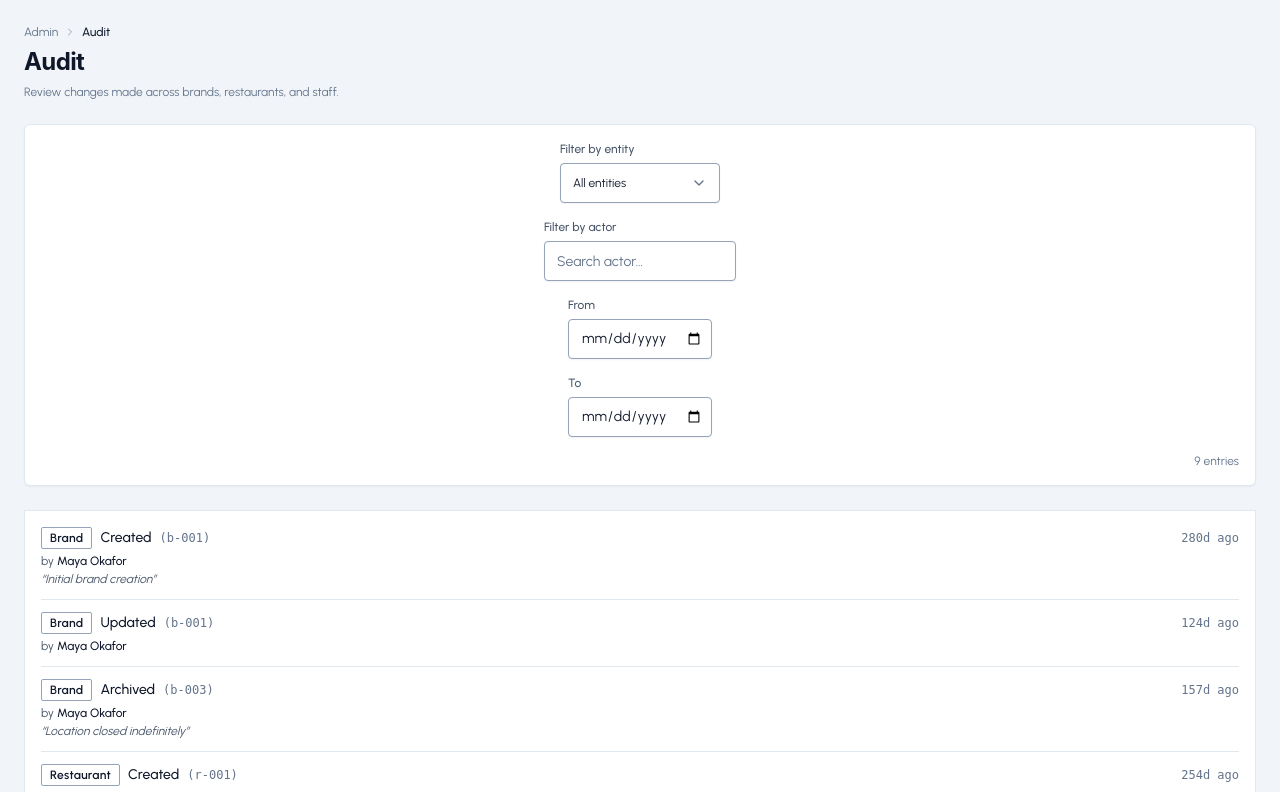
AdminAuditPage › filters entries by actor
The image size is (1280, 792).
Expected: the text "“Initial brand creation”" is shown, [41, 572, 156, 586]
Type "Alex Rivera" into the field with placeholder "Search actor…".
click(640, 261); type("Alex Rivera")  # box [544, 241, 736, 281]
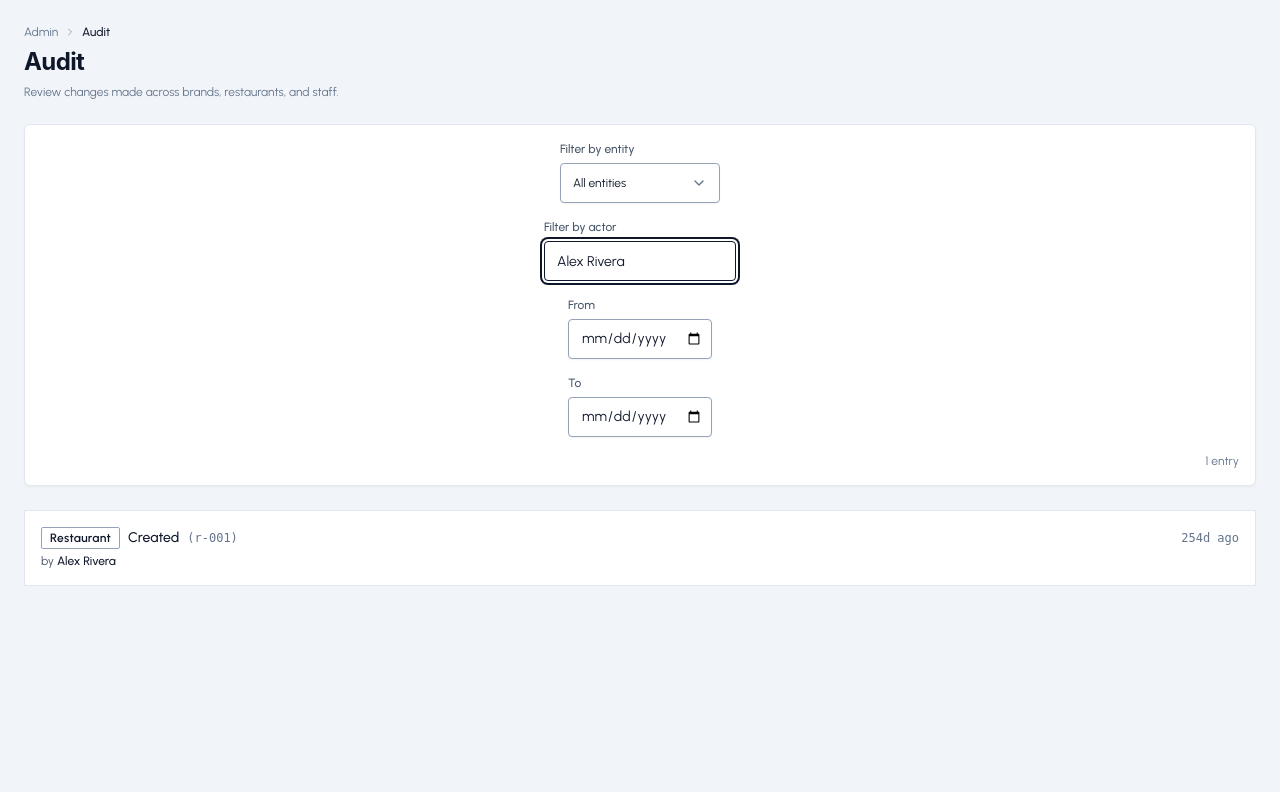
Now the text "Initial brand creation" is gone
